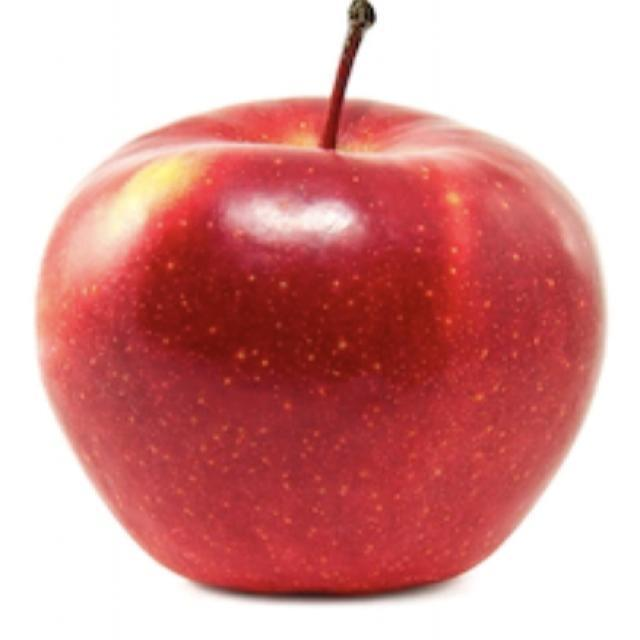Fresh Apple: (45, 97, 590, 585)
